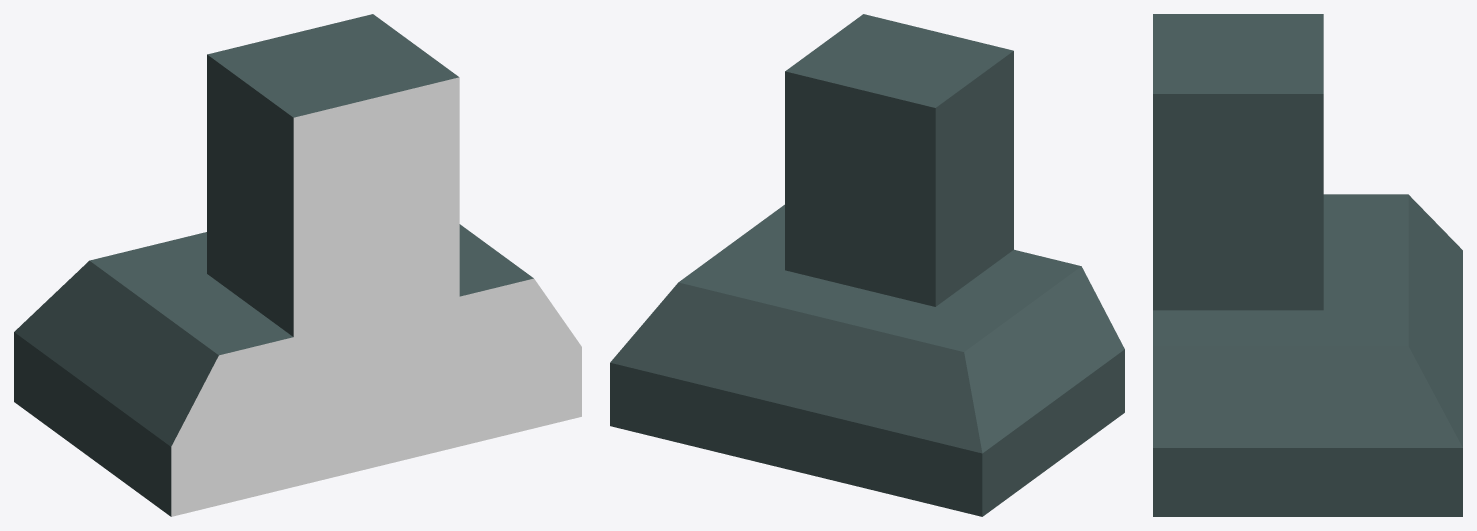
File: hoodLarge.obj
The picture shows the model from 3 angles, left to right: view 1: azimuth 30°, elevation 25°; view 2: azimuth 150°, elevation 25°; view 3: azimuth 270°, elevation 25°; orthographic projection. The views are drawn at different scales.
Visible parts, largest first — view 1: hoodLarge; view 2: hoodLarge; view 3: hoodLarge.
Boxes of the visible parts, x1,y1,x2,y2 form: hoodLarge: [14, 14, 581, 516]; hoodLarge: [610, 14, 1124, 516]; hoodLarge: [1153, 14, 1462, 516].
Bounding box in the file's own units: 0.43 × 0.3695 × 0.2849.
